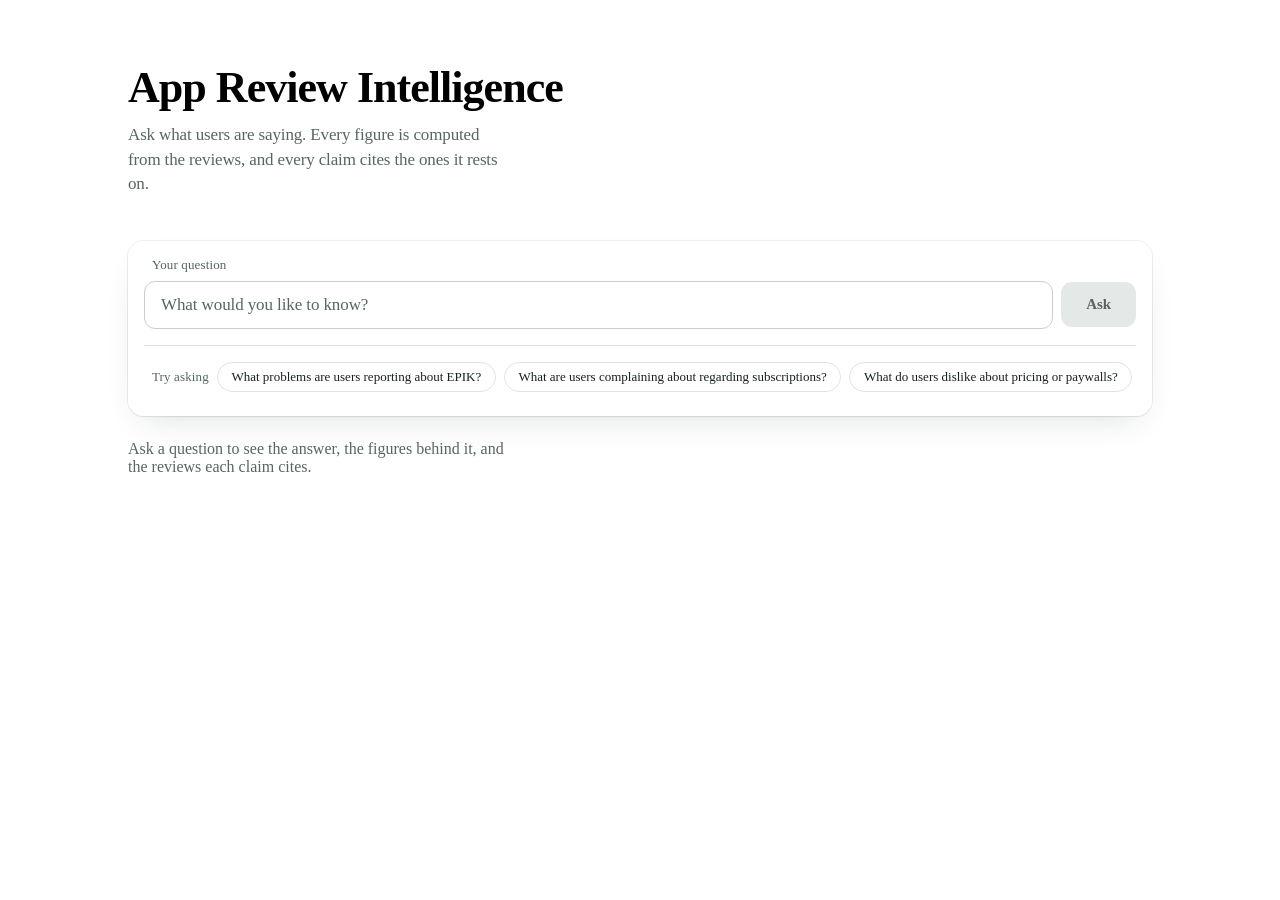
Test case: question workflow › posts only the question to the configured endpoint and renders a validated result
The image size is (1280, 900).
Type "  What needs improvement?  " into the field labelled "Your question". click: (599, 305)
box: [144,281,1053,329]
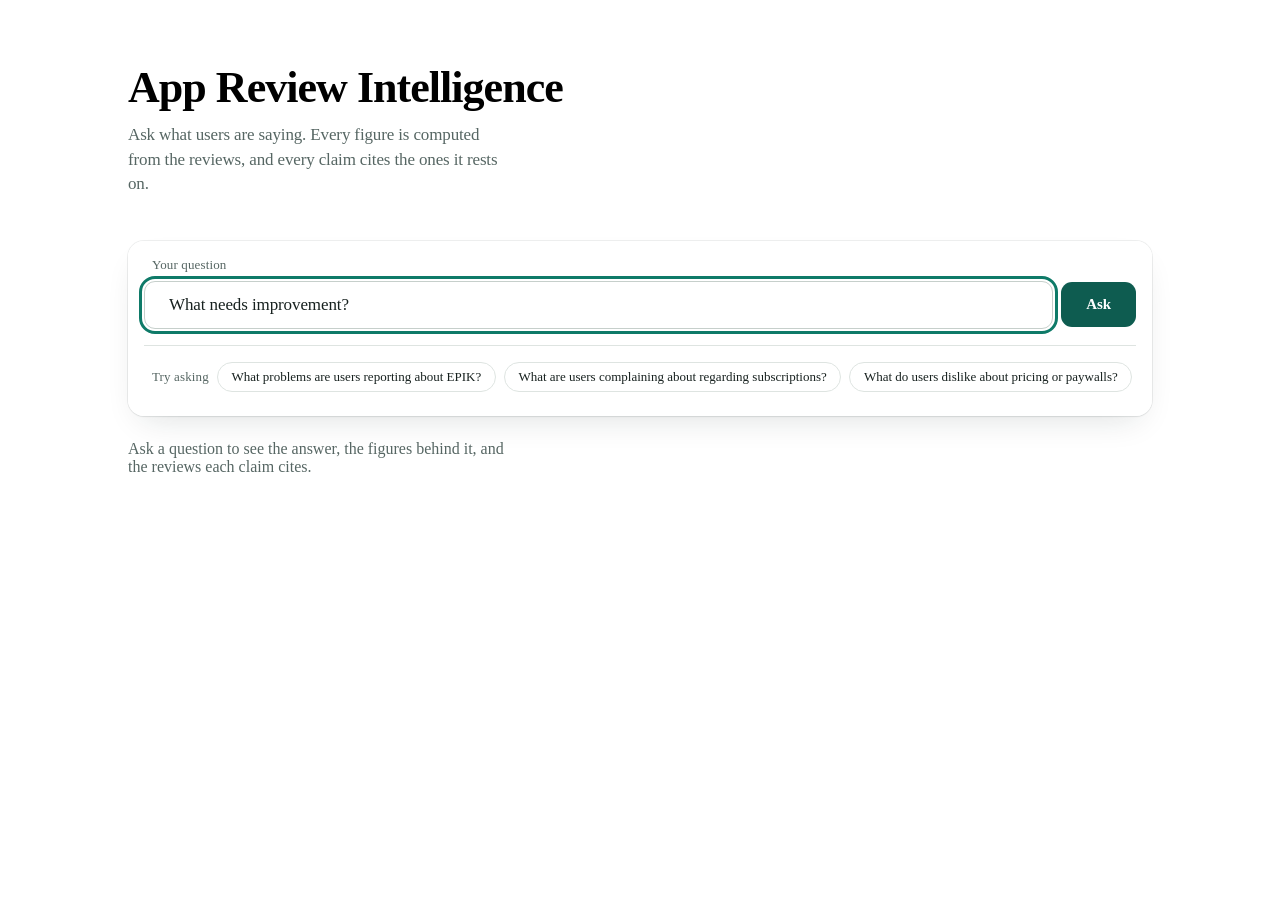
Click the button "Ask". click: (1099, 305)
box: [1061,282,1136,327]
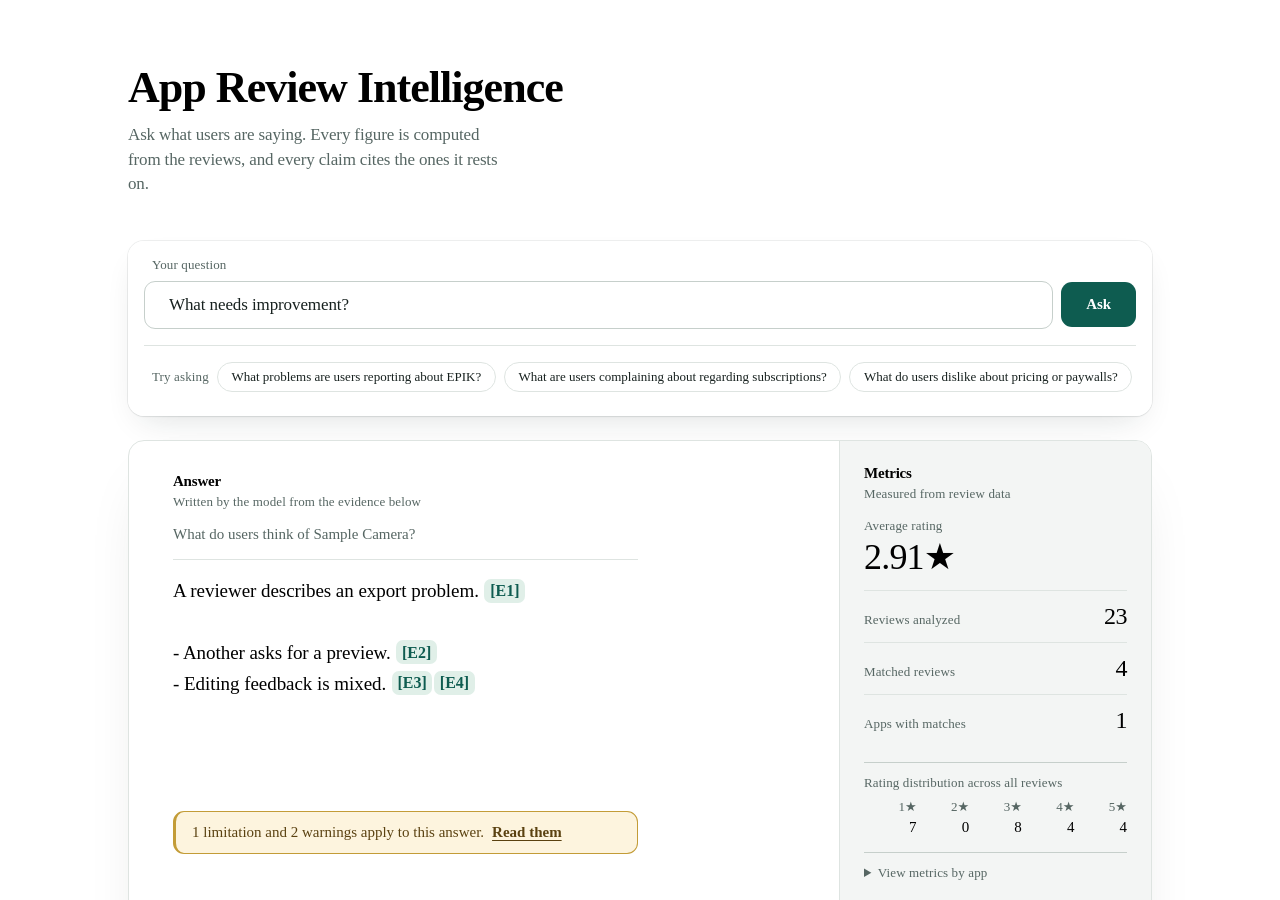
Now the heading "Answer" is shown, box [173,473,221,490]
